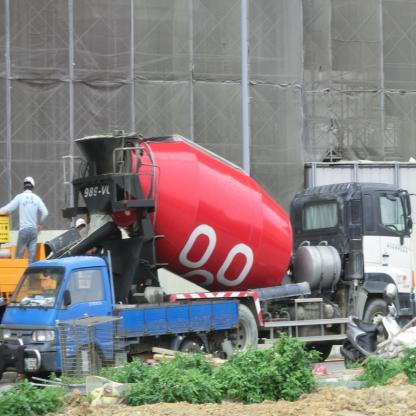Truck: (61, 126, 415, 370), (0, 257, 239, 389)
